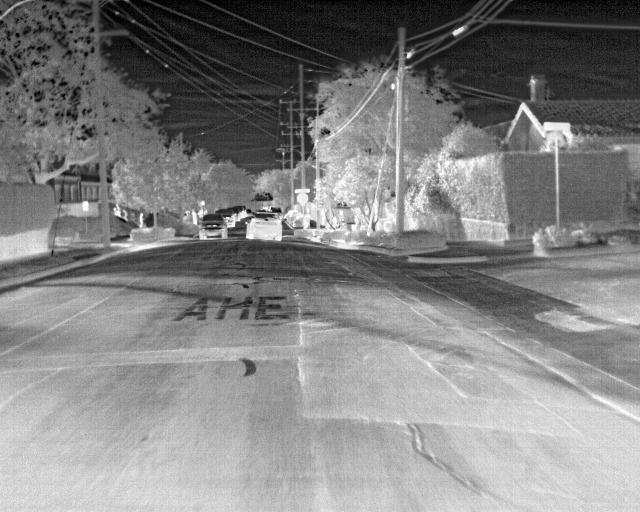car: (244, 211, 282, 242), (197, 212, 227, 239), (217, 207, 236, 226), (229, 205, 243, 221), (238, 205, 251, 219)
